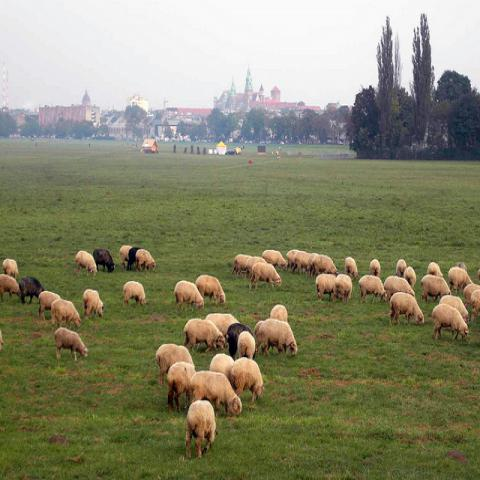car: (225, 150, 236, 155)
